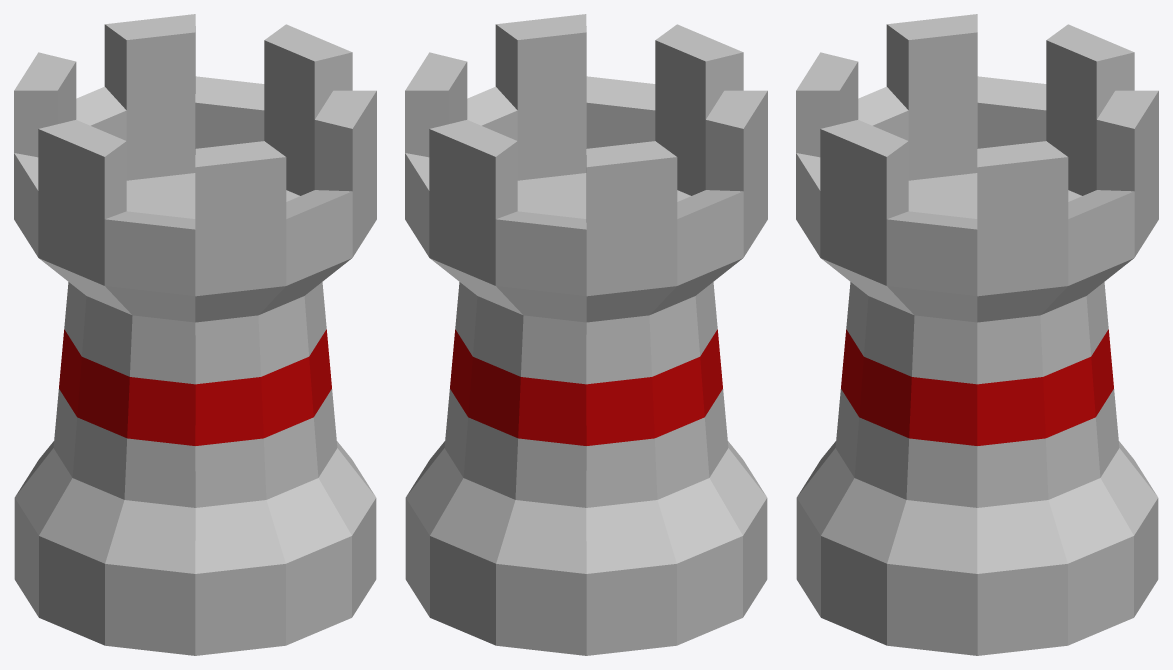
File: Tower.obj
The picture shows the model from 3 angles, left to right: view 1: azimuth 30°, elevation 25°; view 2: azimuth 150°, elevation 25°; view 3: azimuth 270°, elevation 25°; orthographic projection.
Parts seen in each view (by area): view 1: Cylinder; view 2: Cylinder; view 3: Cylinder.
Part boxes in pixels (bbox=[...]): Cylinder: bbox=[14, 14, 376, 655]; Cylinder: bbox=[405, 14, 767, 655]; Cylinder: bbox=[796, 14, 1158, 655].
Size of the model in its own units: 2.01 by 2.98 by 2.01.
